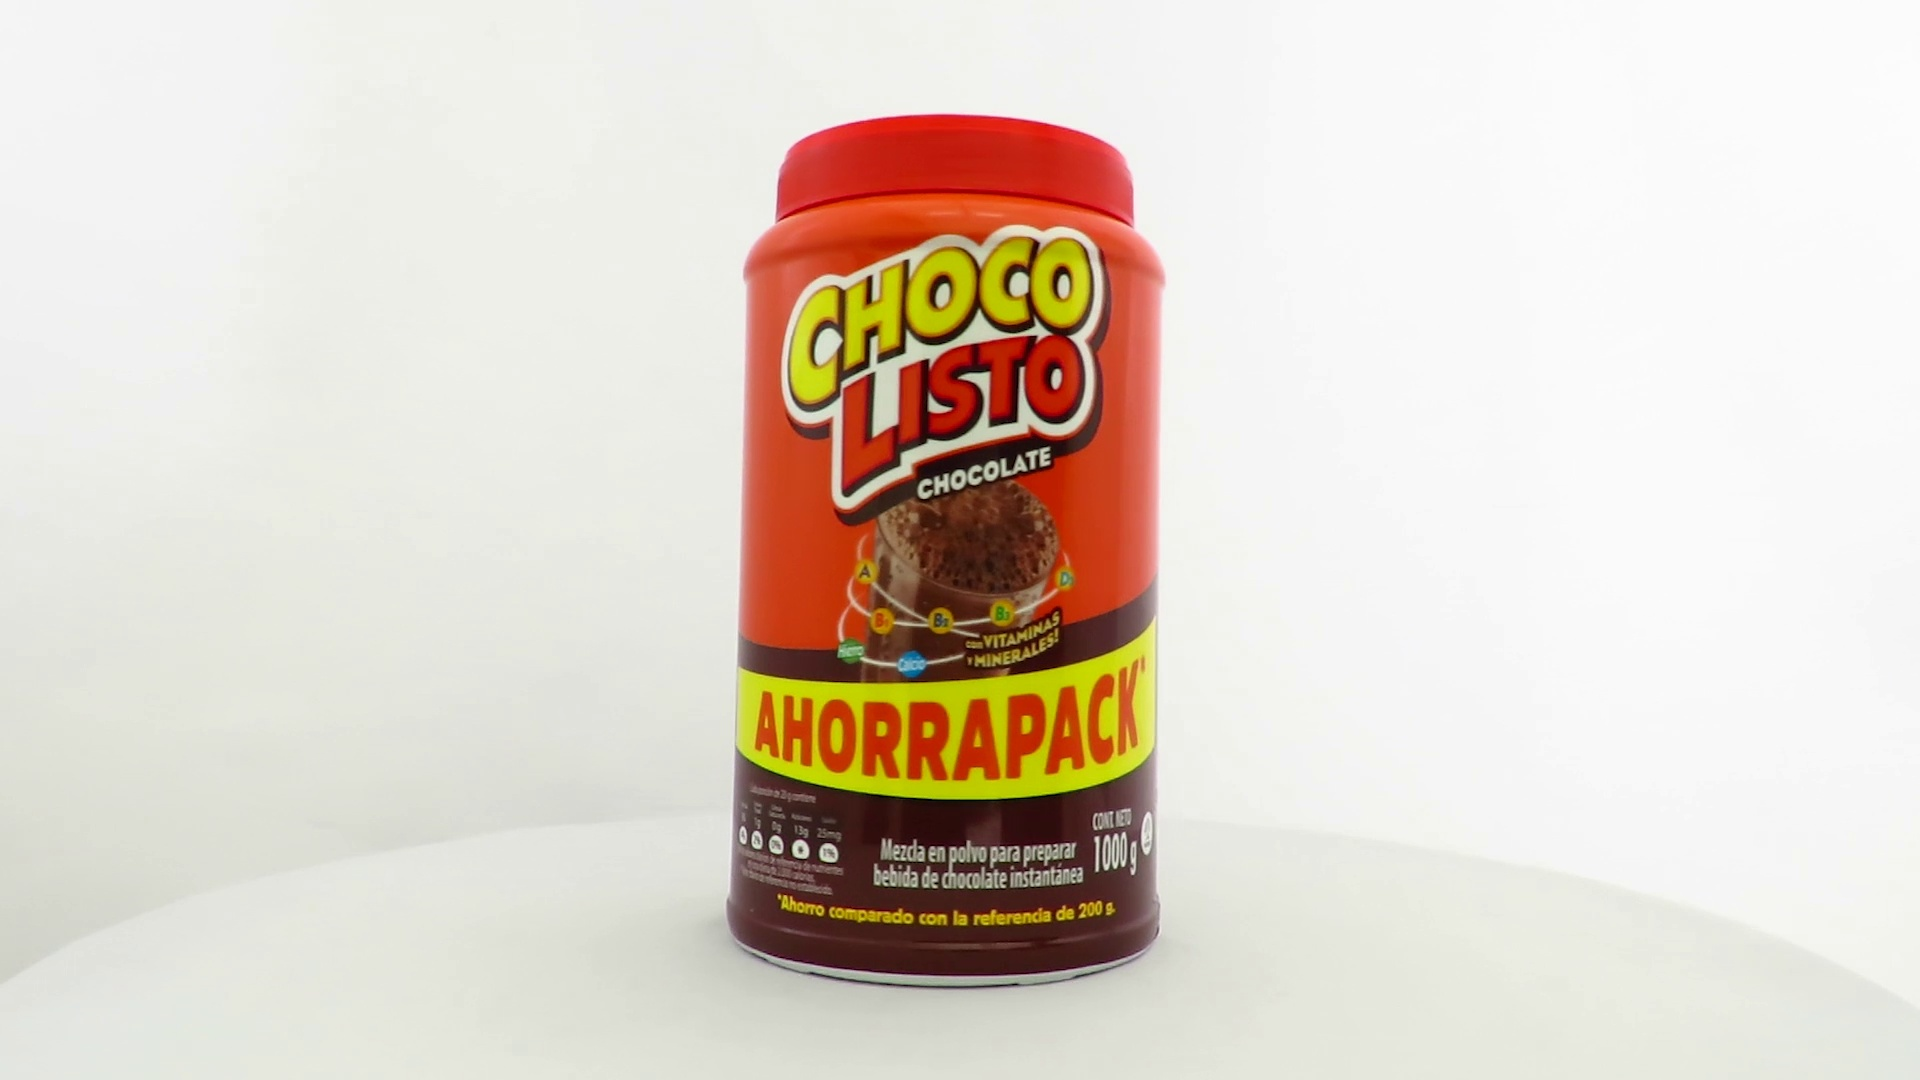COL0170103TRR00100: (721, 109, 1171, 996)
